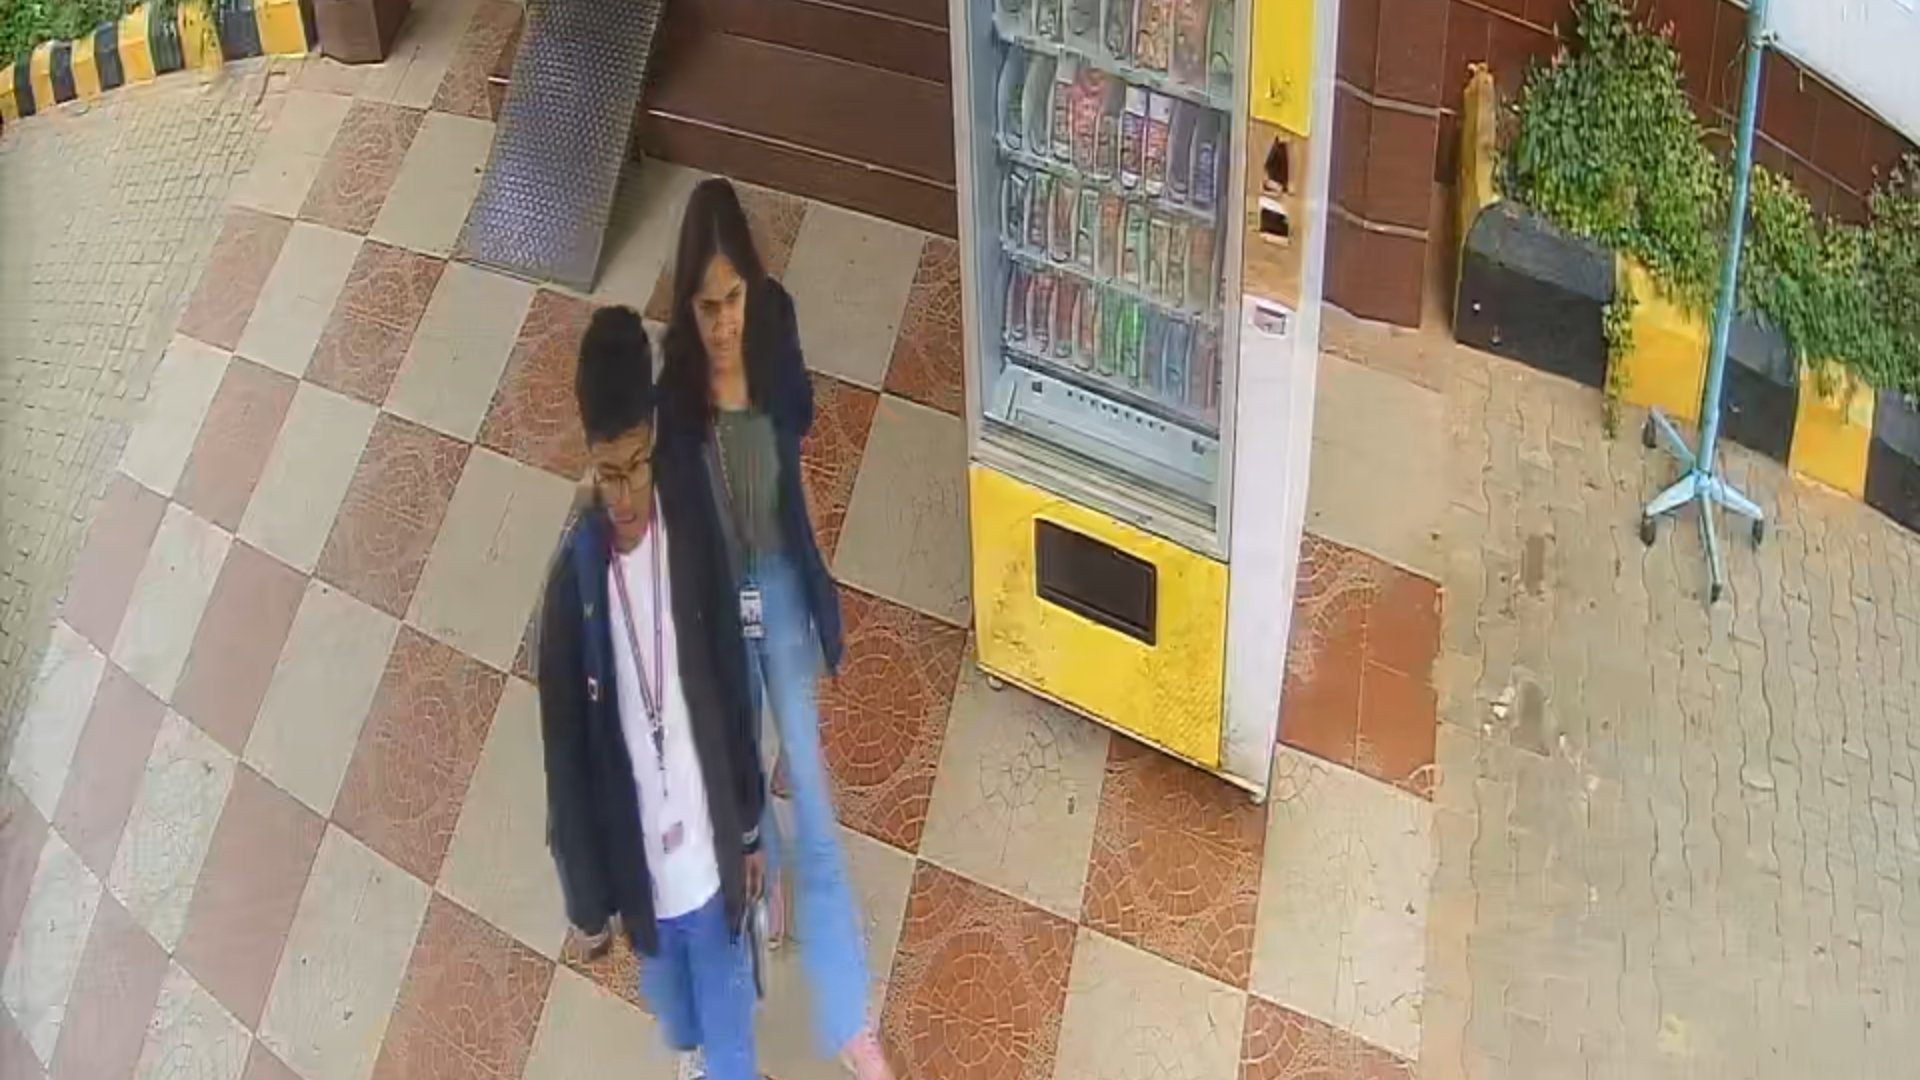not intruder: (669, 195, 942, 1080), (539, 295, 774, 1080)
